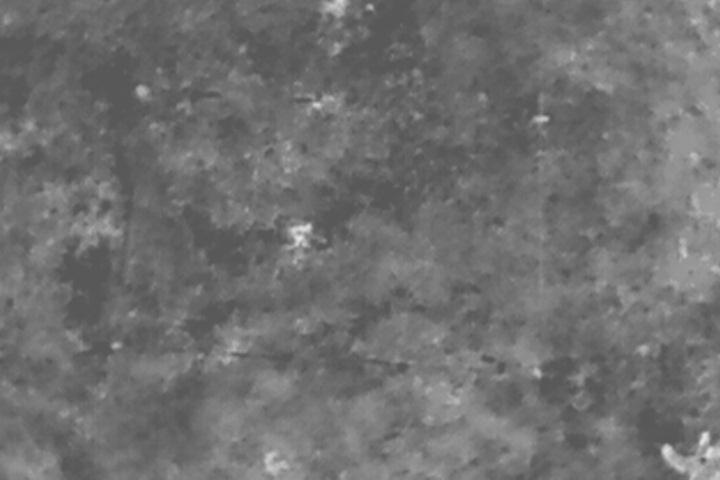landmine: (288, 219, 318, 249)
